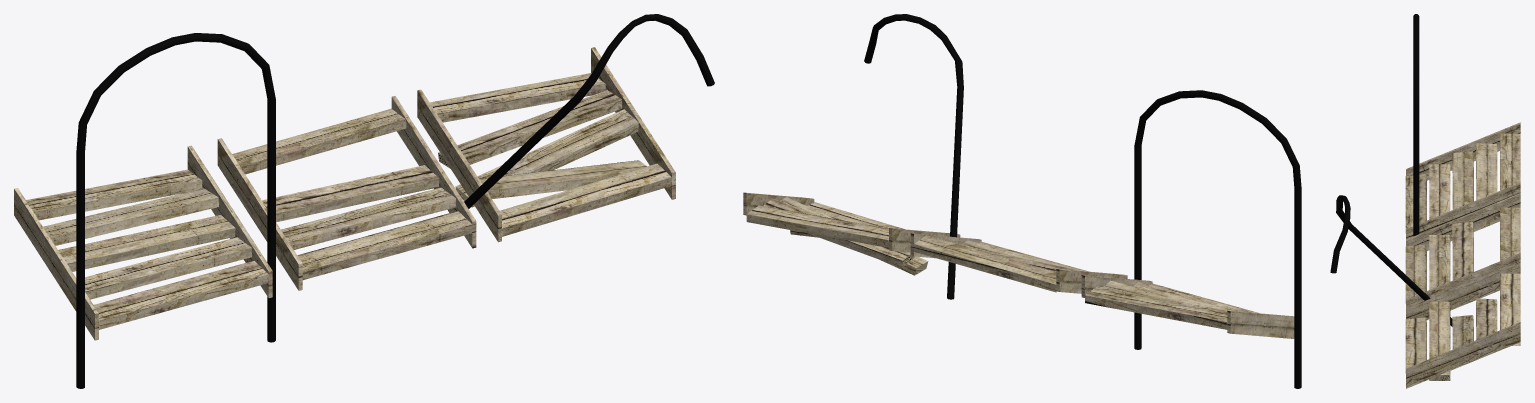
File: Wood Stairs and Metal Arch.FBX
3 renders of one model, left to right at view 1: azimuth 30°, elevation 25°; view 2: azimuth 150°, elevation 25°; view 3: azimuth 270°, elevation 25°, orthographic. The views are drawn at different scales.
Parts seen in each view (by area): view 1: Box005, Box009, Box008, Cylinder001, Cylinder004; view 2: Box009, Box005, Box008, Cylinder001, Cylinder004; view 3: Box009, Box005, Box008, Cylinder001, Cylinder004.
Boxes of the visible parts, bbox=[...] form: Box005: bbox=[14, 145, 272, 340]; Box009: bbox=[417, 47, 675, 242]; Box008: bbox=[217, 96, 476, 290]; Cylinder001: bbox=[76, 33, 275, 388]; Cylinder004: bbox=[464, 14, 714, 208]; Box009: bbox=[743, 192, 960, 275]; Box005: bbox=[1081, 275, 1294, 338]; Box008: bbox=[910, 233, 1127, 293]; Cylinder001: bbox=[1134, 90, 1301, 388]; Cylinder004: bbox=[864, 14, 963, 299]; Box009: bbox=[1405, 262, 1520, 388]; Box005: bbox=[1405, 122, 1520, 239]; Box008: bbox=[1405, 193, 1520, 308]; Cylinder001: bbox=[1413, 14, 1419, 236]; Cylinder004: bbox=[1330, 195, 1452, 326].
Size of the model in its own units: 150 by 79.09 by 58.88.
